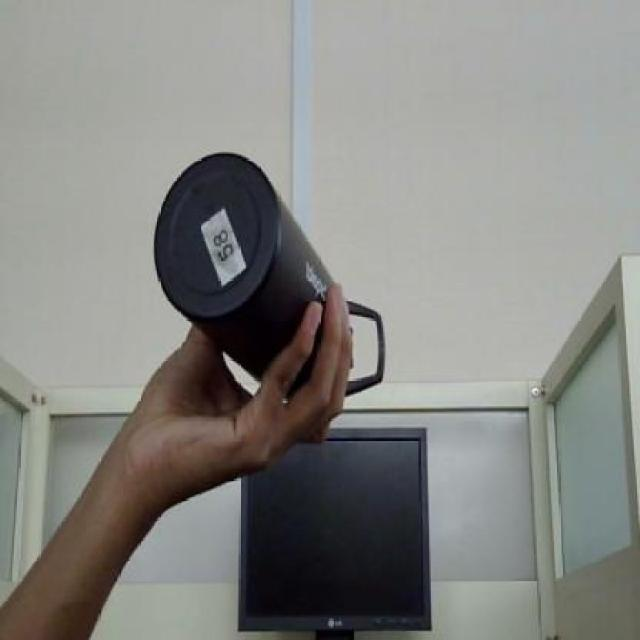Metal: (152, 149, 306, 366)
